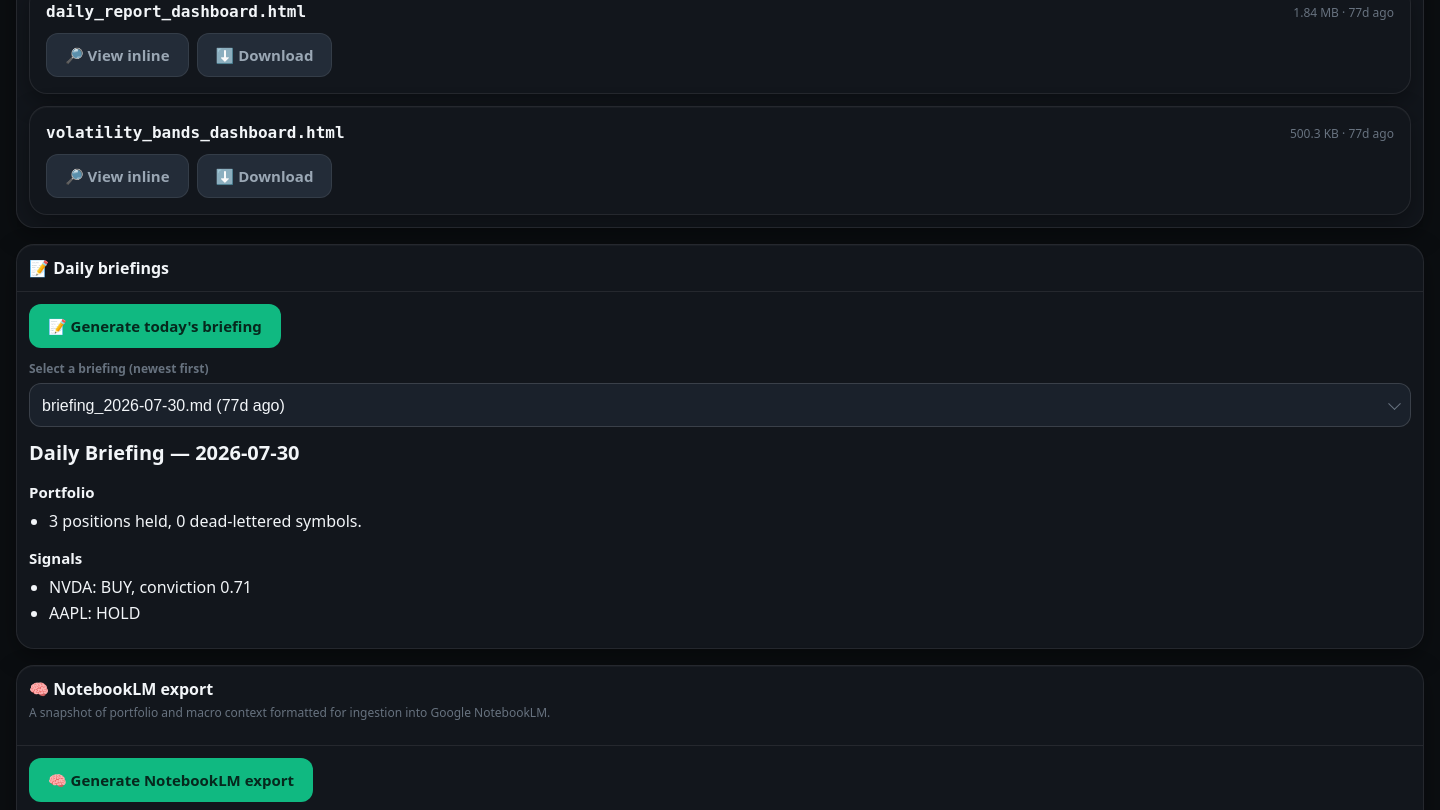
Test: ReportLibrary screen (real mock API) › switching the briefing selector loads the other briefing's content
The width and height of the screenshot is (1440, 810).
(page scrolled)
Expected: the heading "Daily Briefing — 2026-07-30" is shown, [29, 439, 300, 466]
Select "briefing_2026-07-29.md (78d ago)" in the dropdown with test id "briefing-select" at x=720, y=405, box [29, 383, 1411, 427]
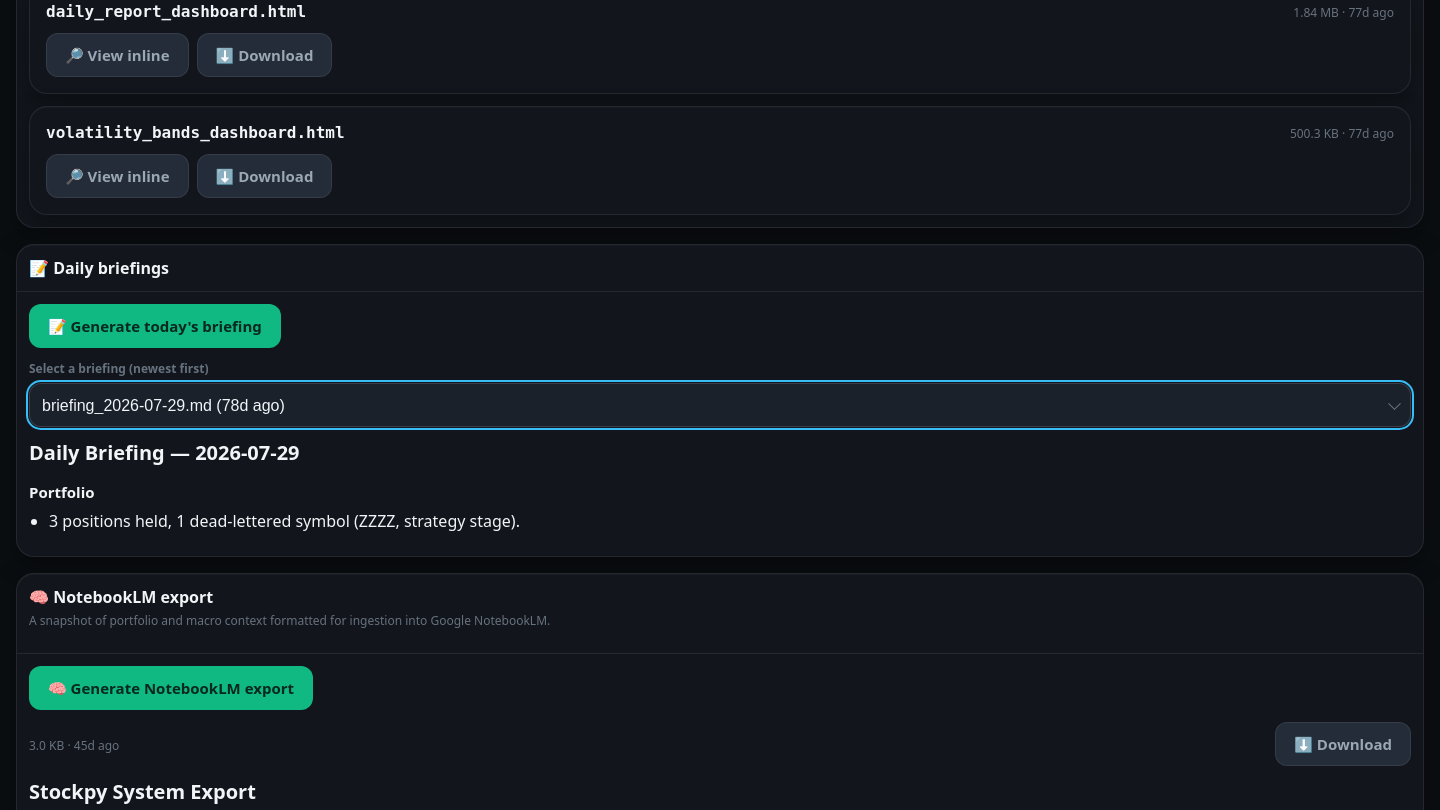
Now the heading "Daily Briefing — 2026-07-29" is shown, box [29, 439, 300, 466]
